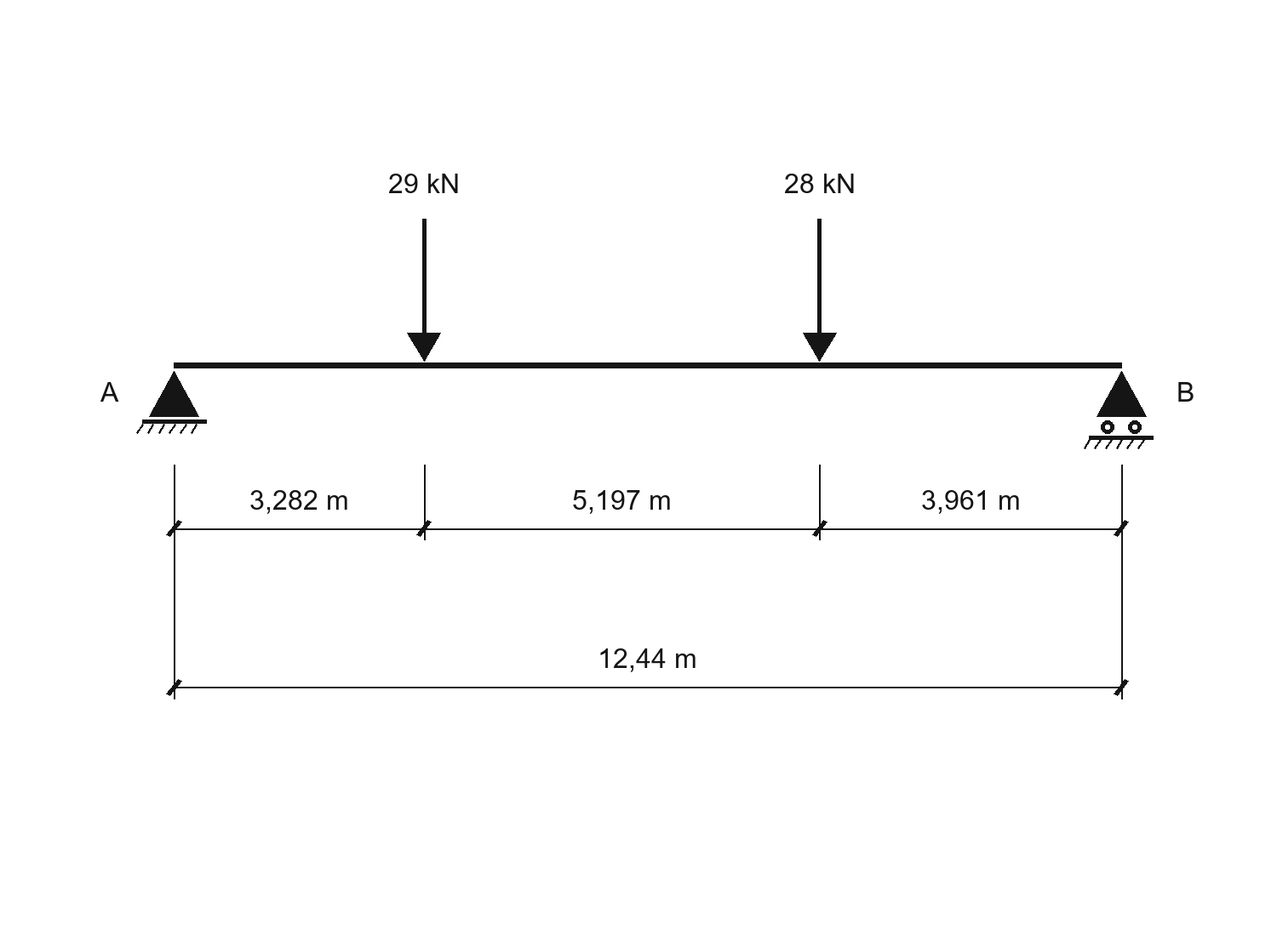pin_support: (136, 371, 207, 434)
point_load: (407, 219, 441, 362), (803, 219, 837, 362)
roller_support: (1084, 371, 1154, 449)
